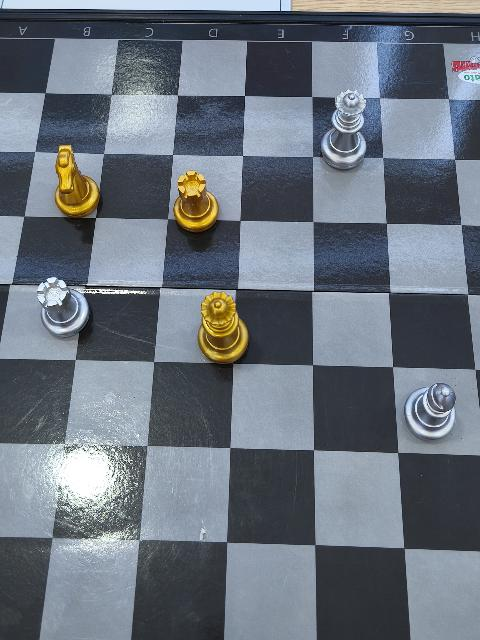black_knight: (53, 144, 101, 221)
black_queen: (197, 291, 250, 366)
black_rook: (172, 169, 220, 236)
white_bishop: (403, 380, 459, 446)
white_queen: (320, 87, 370, 173)
white_rook: (35, 276, 91, 340)
